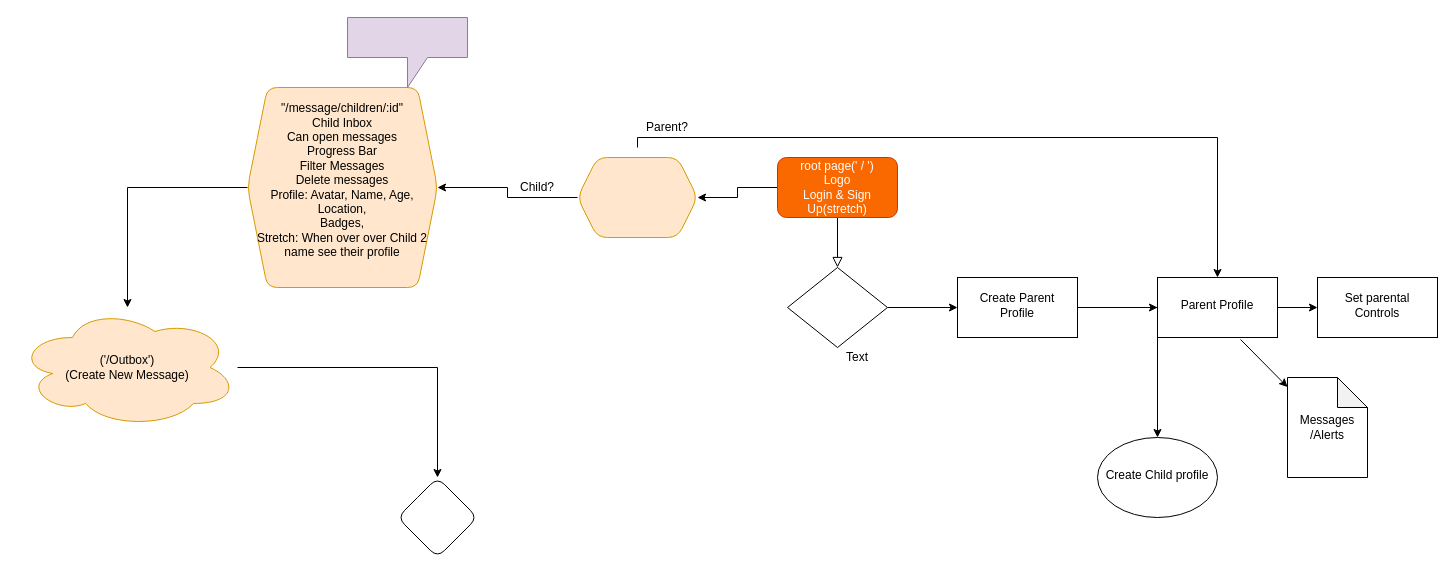
Some shapes in this 1455 by 575 pixel diagram are drawn without their labels. Each missing label, with the centre of its shape:
"/Netflix" Choose user: pixel 637 197
Change the Link to name?: pixel 407 52
Create new Message: pixel 437 517
Sign Up: pixel 837 307
